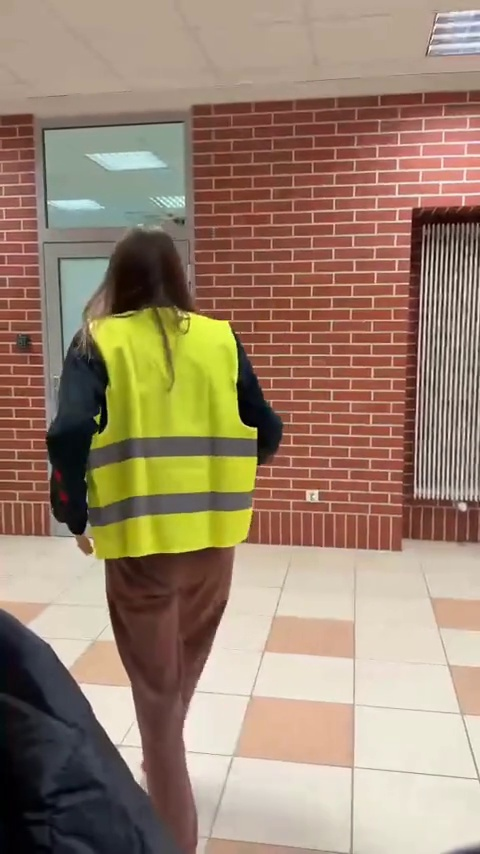vest: (37, 222, 290, 854)
